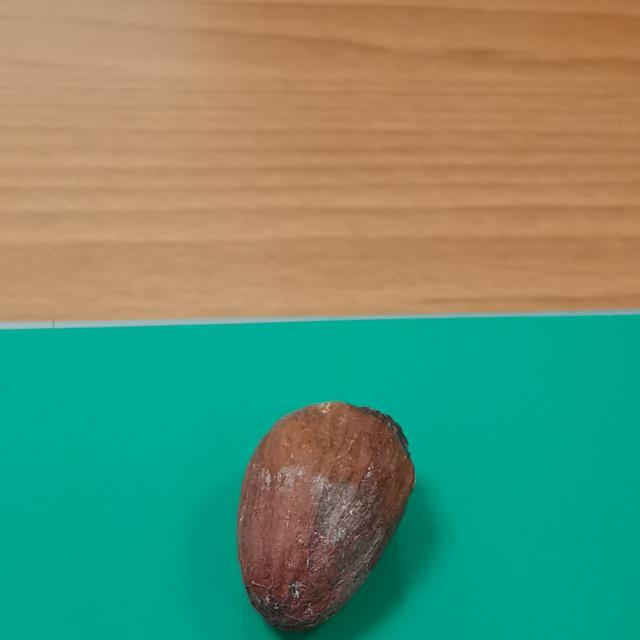Fine_cocoabeans: (155, 327, 578, 640)
